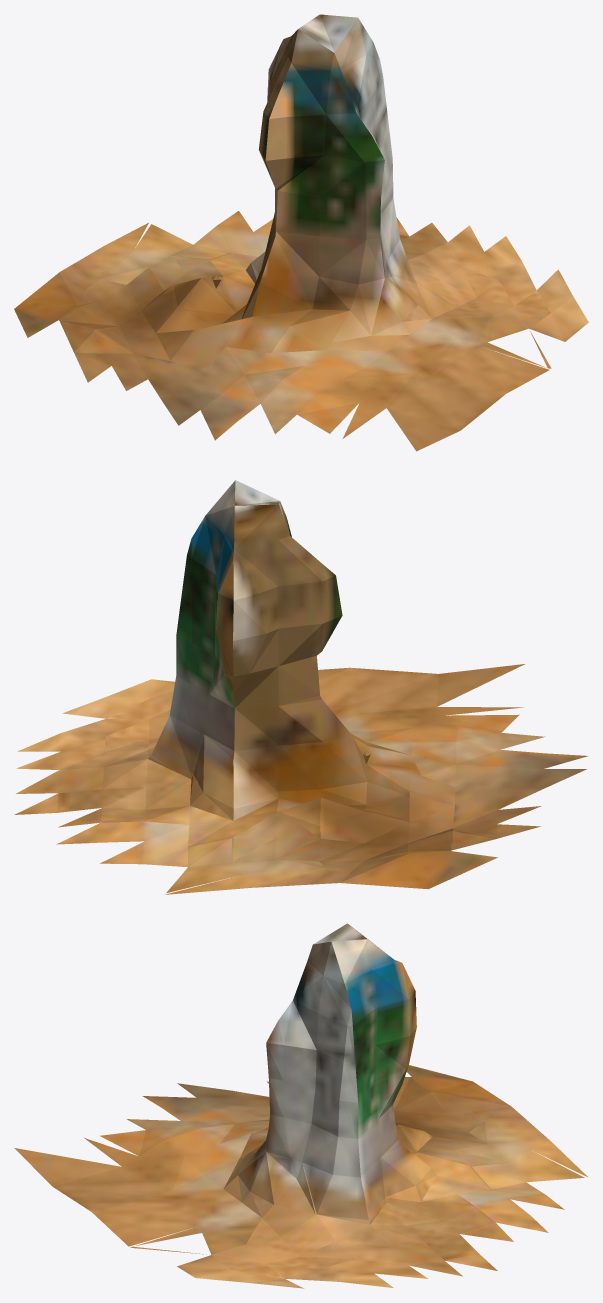
The model's file is milk.glb.
3 renders of one model, top to bottom at view 1: azimuth 30°, elevation 25°; view 2: azimuth 150°, elevation 25°; view 3: azimuth 270°, elevation 25°, orthographic. The views are drawn at different scales.
Visible parts, largest first — view 1: model; view 2: model; view 3: model.
Part boxes in pixels (<box>): model: <box>14,14,588,451</box>; model: <box>14,480,587,894</box>; model: <box>14,923,588,1288</box>.
Size of the model in its own units: 0.383 by 0.225 by 0.431.
1 material, 1 textured.
